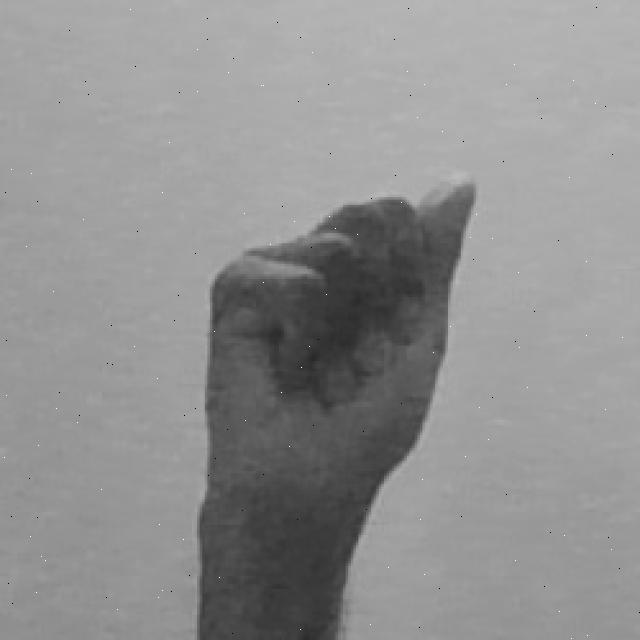A: (183, 174, 484, 640)
